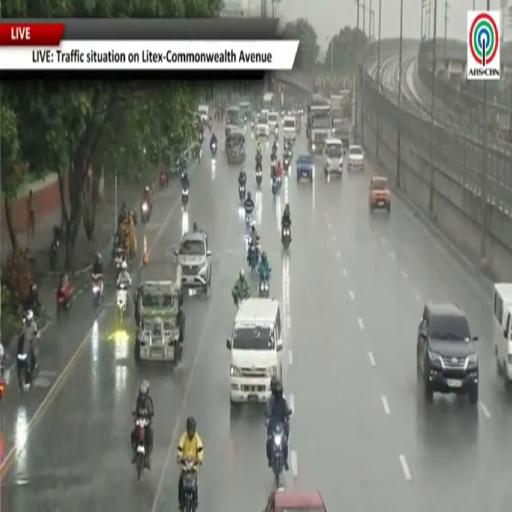car: (417, 303, 479, 405), (175, 231, 211, 293), (264, 488, 326, 511), (369, 176, 390, 213), (324, 139, 343, 175), (296, 154, 314, 182), (348, 146, 364, 170), (256, 111, 269, 137), (268, 111, 278, 133), (198, 105, 209, 124)
jeepney: (135, 279, 184, 361)
motorcycle: (17, 342, 37, 390), (271, 424, 286, 488), (135, 416, 149, 479), (182, 459, 197, 511), (57, 282, 73, 314), (116, 283, 128, 323), (113, 248, 126, 278), (233, 288, 250, 308), (92, 275, 102, 307), (50, 240, 59, 271), (259, 274, 270, 298), (248, 245, 258, 270), (141, 201, 150, 223), (282, 226, 290, 249), (159, 172, 167, 189), (272, 174, 278, 196), (283, 154, 290, 172), (182, 188, 189, 205), (210, 141, 217, 157), (239, 185, 246, 201), (246, 211, 252, 229), (256, 168, 262, 186), (276, 175, 282, 189), (198, 132, 203, 143)
truck: (307, 95, 332, 154), (331, 90, 351, 152), (330, 90, 352, 131), (262, 92, 275, 111)
